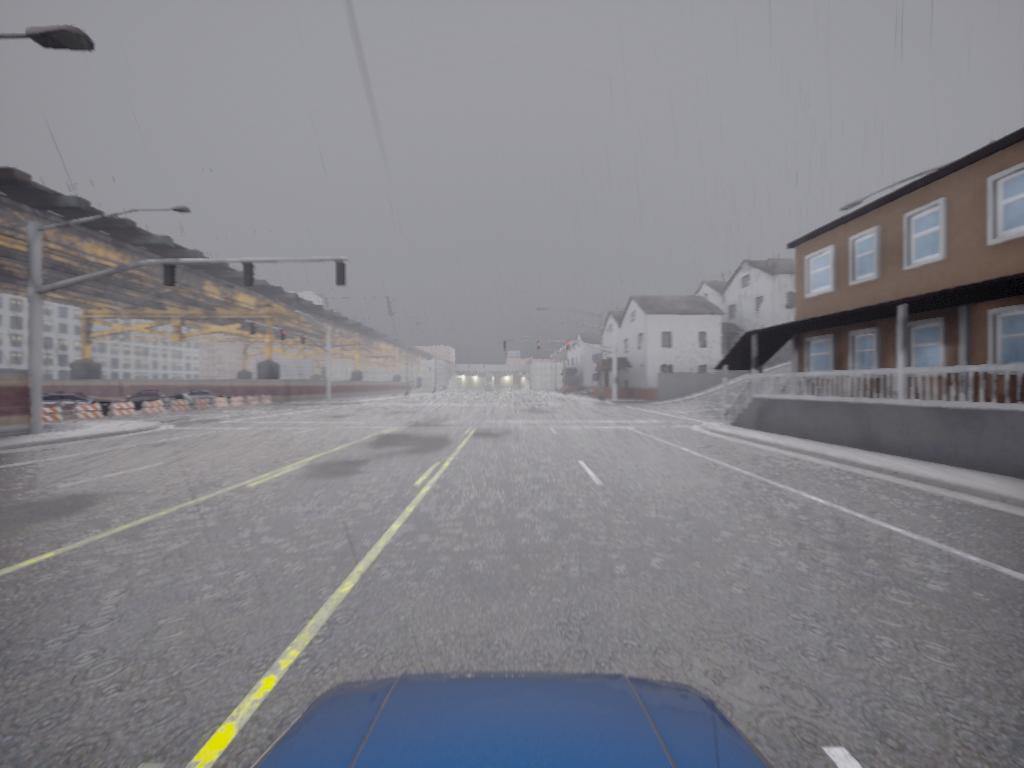traffic_light: (162, 262, 177, 290), (242, 261, 255, 291), (334, 261, 347, 289), (250, 323, 257, 338), (535, 341, 542, 356), (300, 335, 307, 347), (503, 341, 508, 354), (281, 330, 285, 342)
